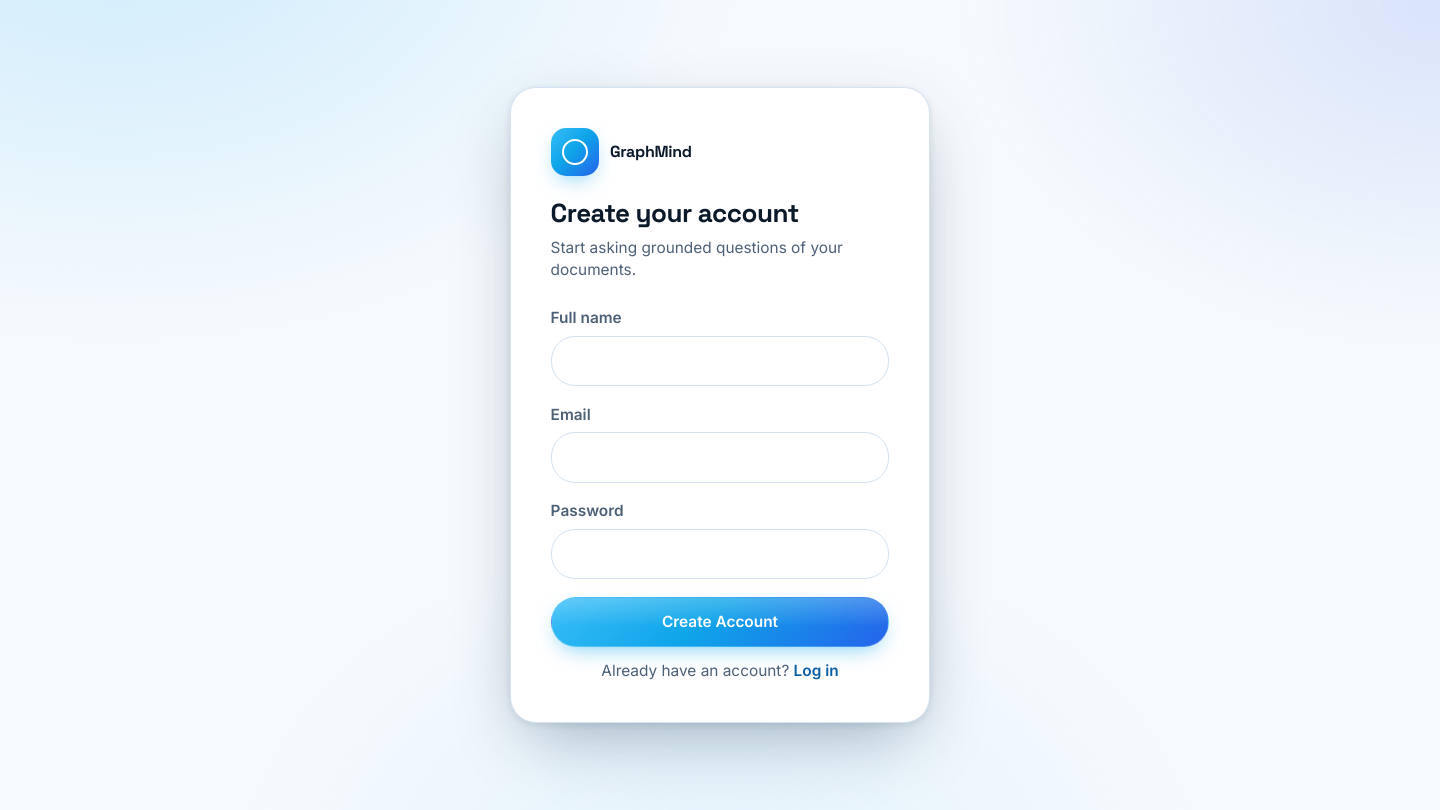
Scenario: RegisterPage (Story 1.6: check-your-inbox state) › shows the error and stays on the form when registration fails
Type "Maria Ivanova" into the field labelled "Full name" at (720, 361), box x1=551 y1=336 x2=889 y2=386
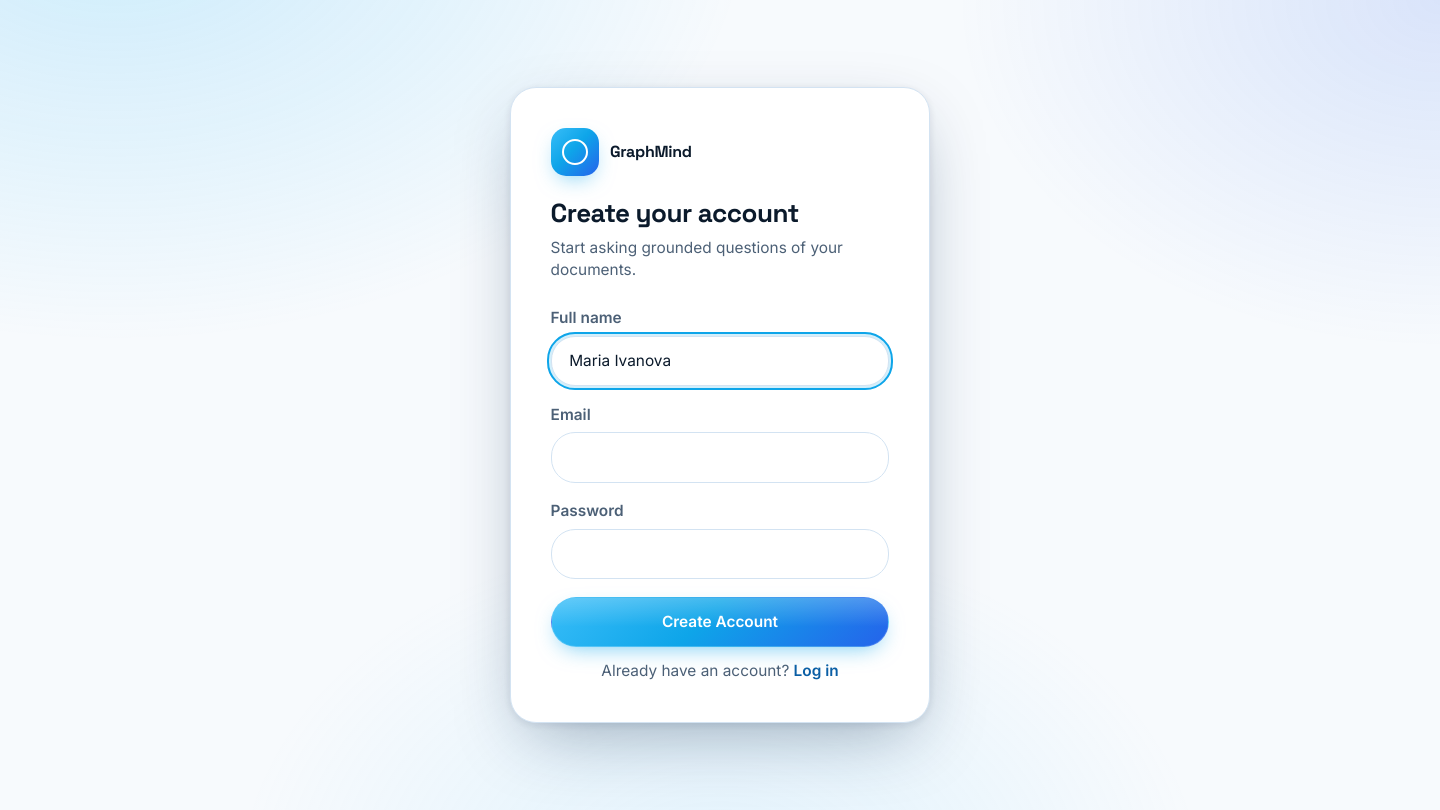
Type "maria@example.com" into the field labelled "Email" at (720, 458), box x1=551 y1=432 x2=889 y2=483
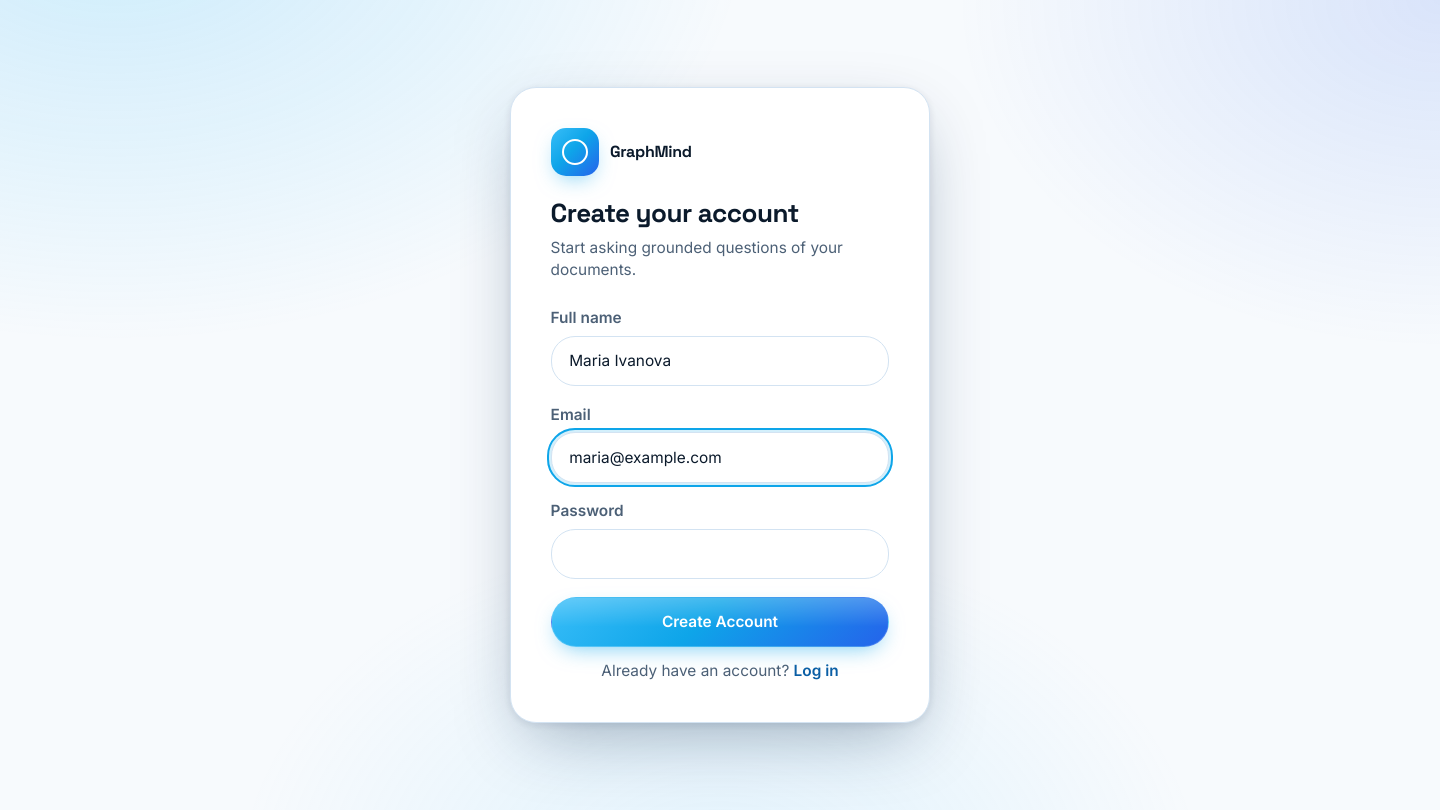
Type "correct horse battery staple" into the password field labelled "Password" at (720, 554), box x1=551 y1=529 x2=889 y2=579
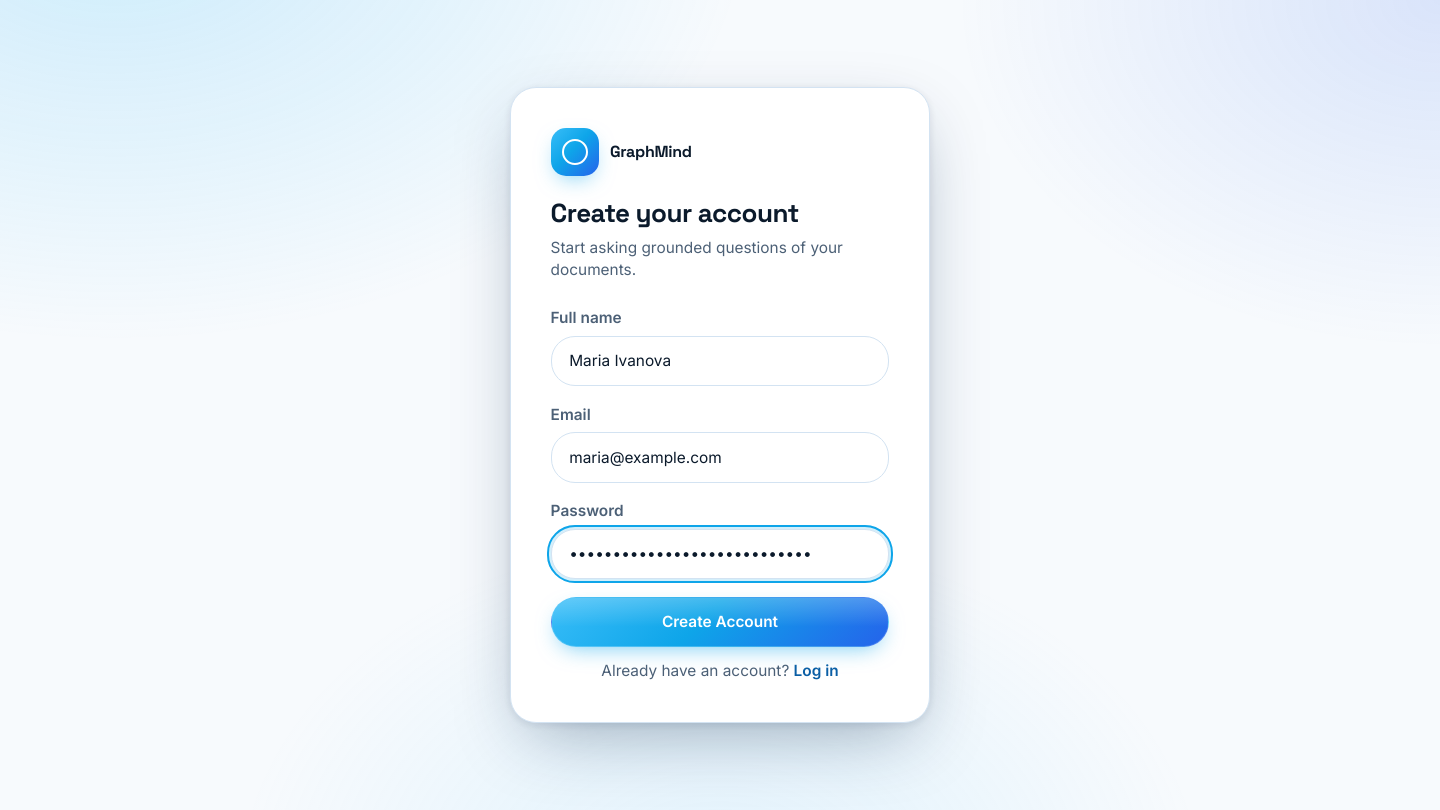
Click the button "Create Account" at (720, 622), box x1=551 y1=597 x2=889 y2=647
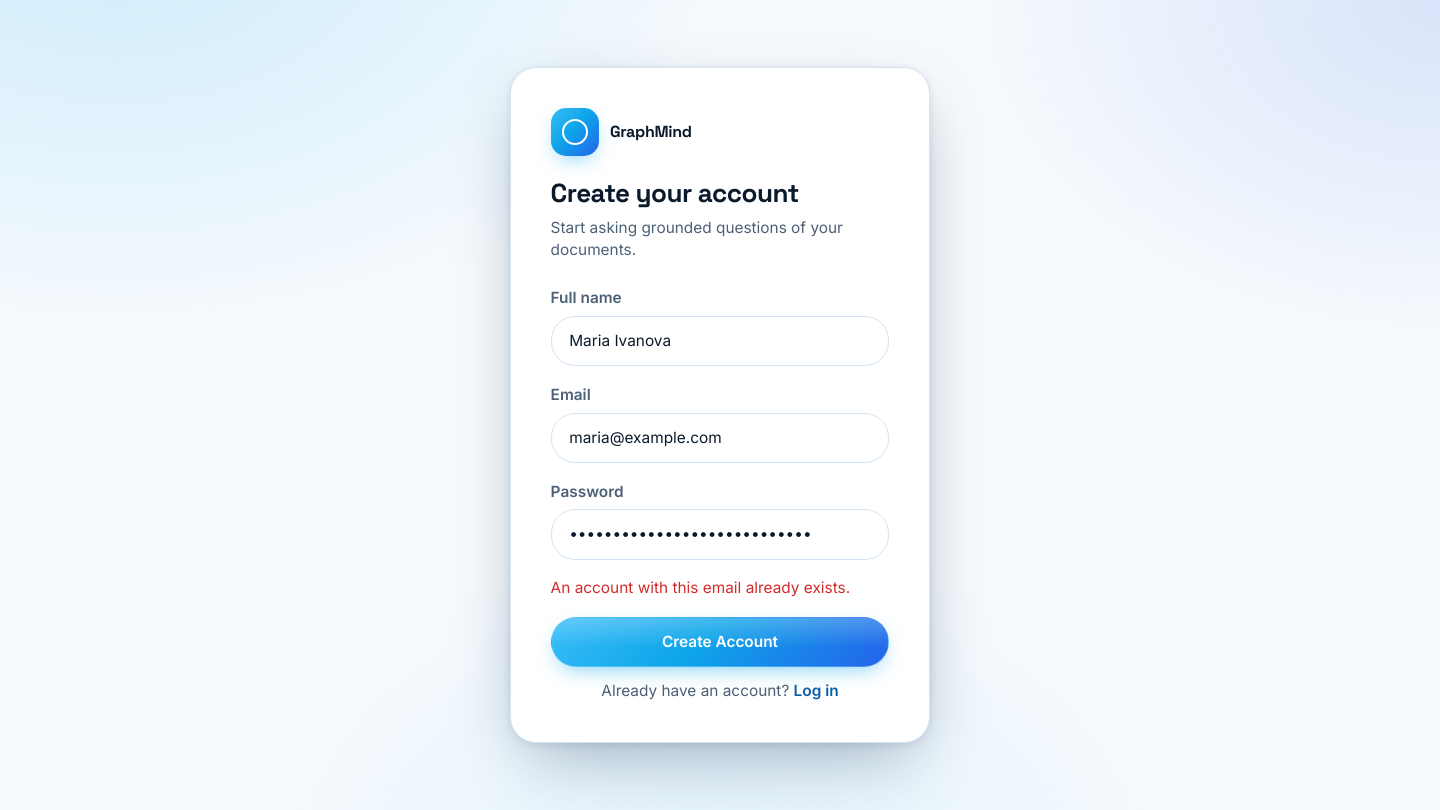
Expected: the message reads "An account with this email already exists.", x1=551 y1=578 x2=850 y2=597
